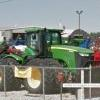Tractor: (7, 16, 86, 87)
